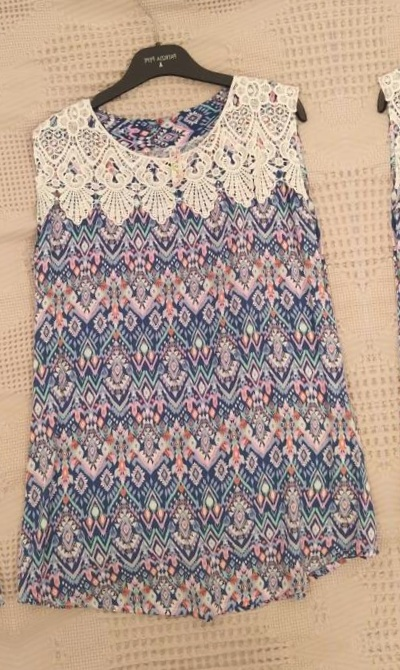Dress: (0, 64, 365, 644), (372, 13, 400, 594), (0, 105, 16, 670)
